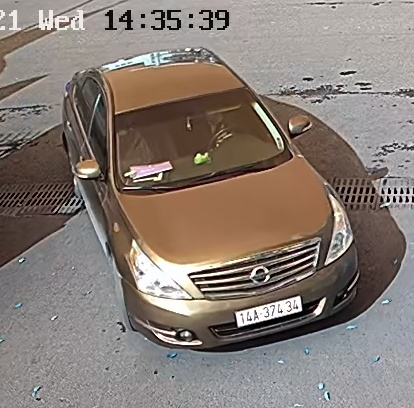vehicle plate: (228, 294, 307, 329)
